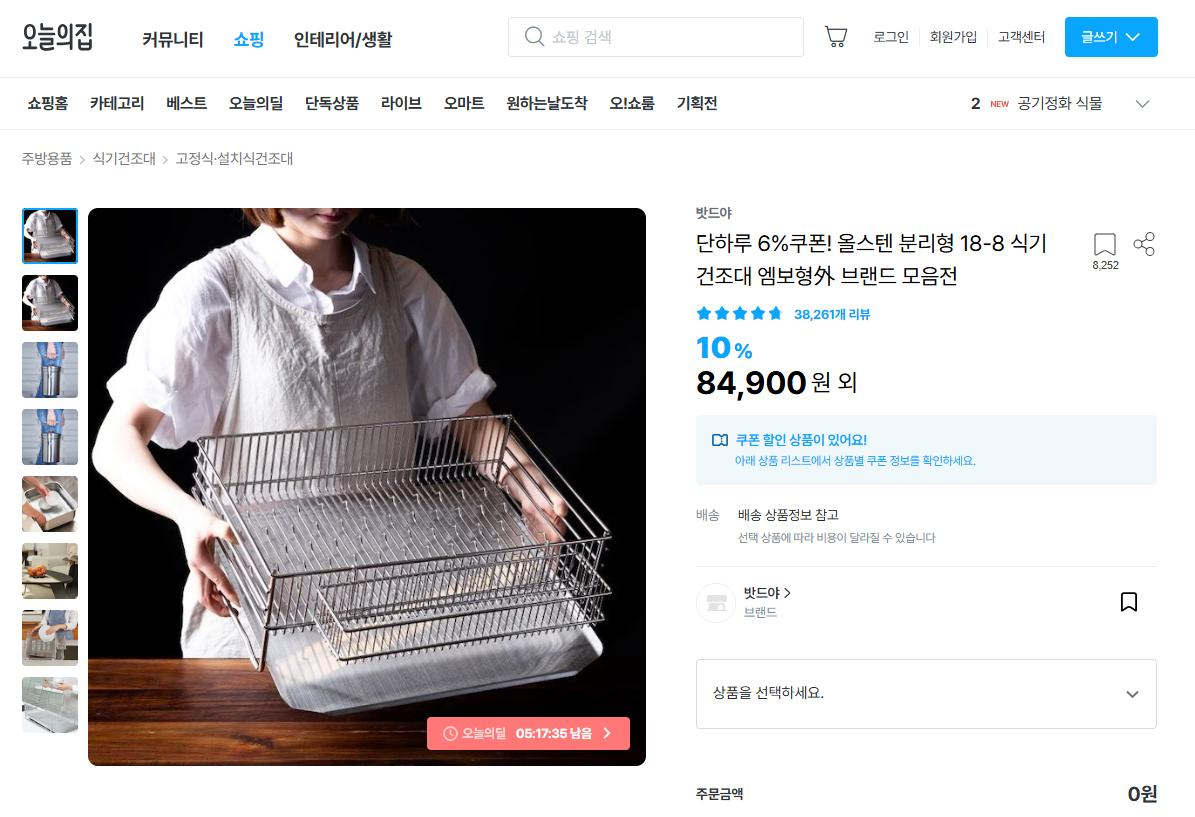button: (426, 717, 630, 751), (21, 474, 81, 534), (19, 610, 79, 670), (20, 342, 80, 398), (20, 542, 77, 600), (22, 209, 78, 267), (22, 276, 78, 332), (20, 677, 77, 730), (24, 410, 79, 463), (287, 26, 406, 50), (503, 90, 592, 112), (1079, 224, 1118, 274), (138, 27, 210, 51), (21, 86, 71, 118), (297, 89, 359, 111), (669, 94, 724, 117), (597, 91, 653, 113), (226, 22, 267, 52), (224, 92, 289, 110), (84, 96, 146, 114), (159, 96, 212, 116), (368, 92, 420, 112), (1133, 230, 1164, 261), (923, 29, 973, 48), (746, 578, 790, 598), (1001, 28, 1044, 48), (444, 90, 482, 112), (826, 23, 854, 52), (1118, 588, 1143, 618), (868, 31, 912, 47)
checkbox: (696, 659, 1156, 728), (964, 86, 1162, 120)
input_field: (509, 20, 793, 58)
